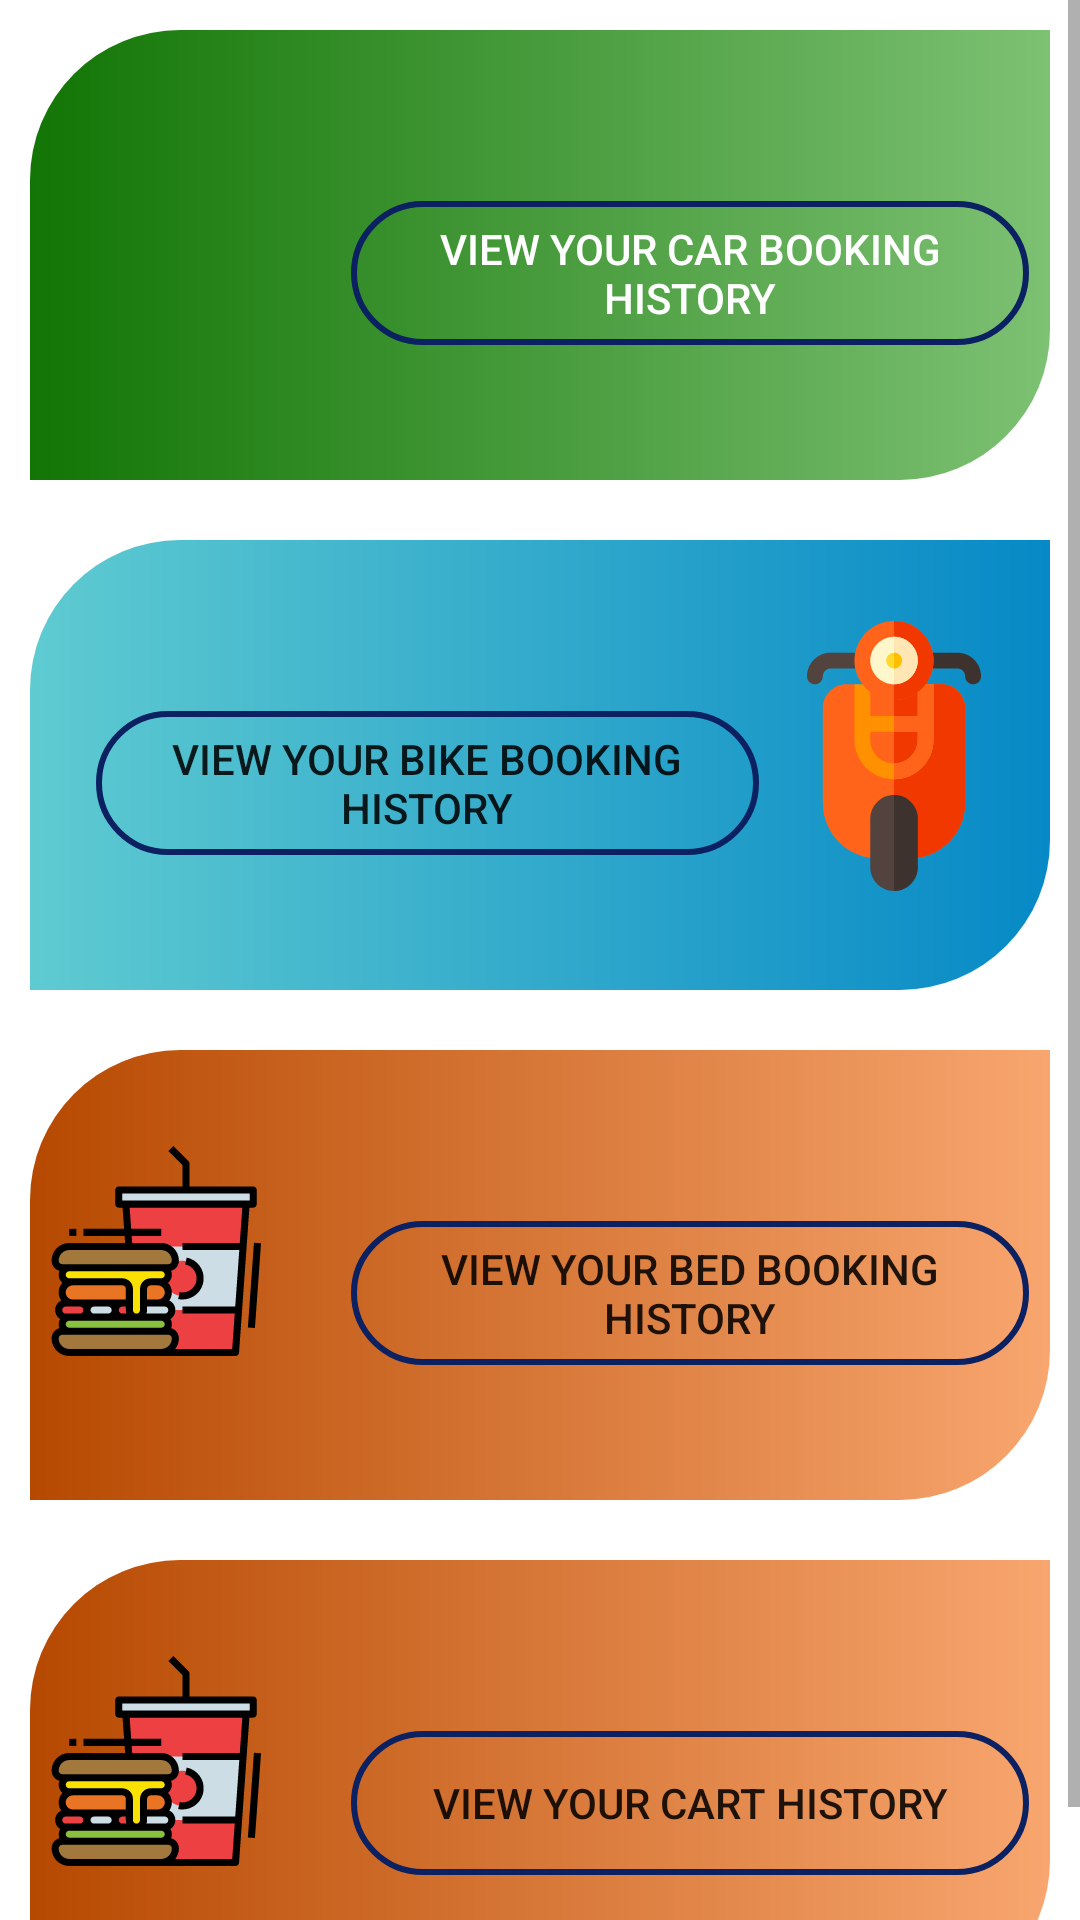

Icons on this 1080px x 1920px Android screen, each with its box as [x1,y1,x2,y2]:
fast food: [51,1146,261,1356], [51,1656,261,1866]
vespa: [807,621,981,891]
